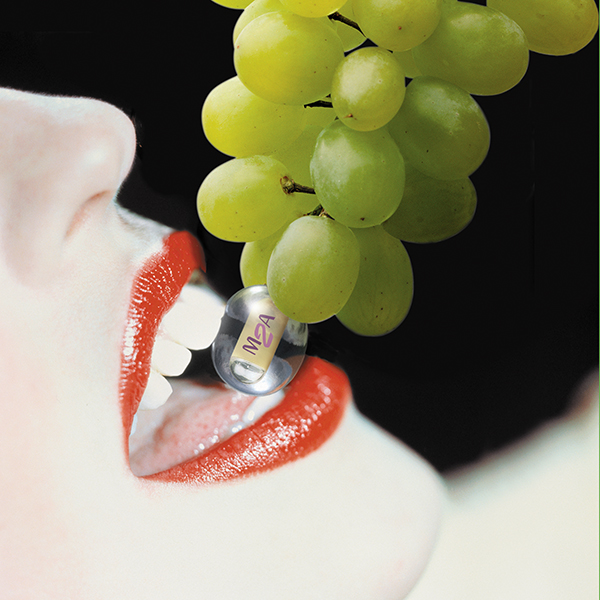Green grapes: (235, 2, 432, 331)
